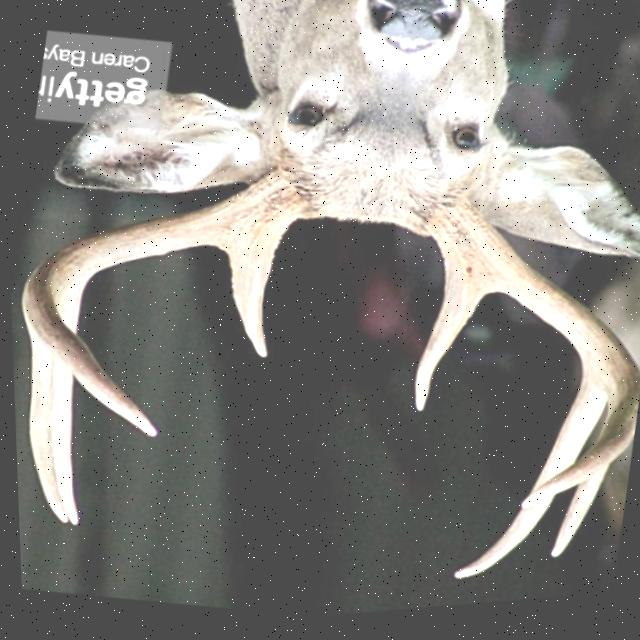L-F: (19, 178, 301, 439)
L-G1: (220, 236, 281, 361)
R-F: (427, 212, 639, 516)
R-G1: (411, 267, 486, 419)
